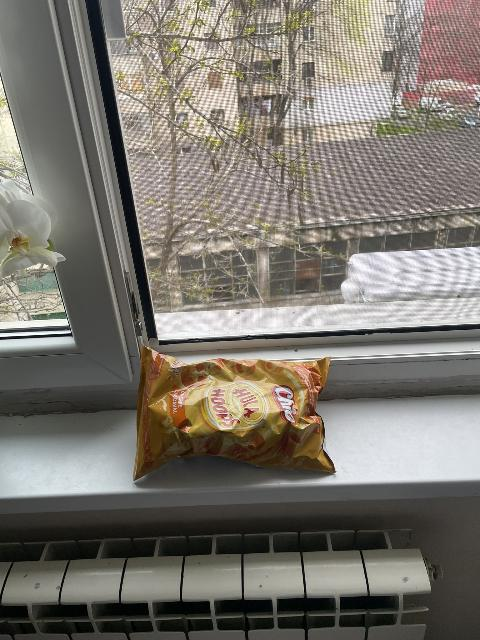Chio Hula Hoops Cheese 70g: (132, 347, 334, 478)
